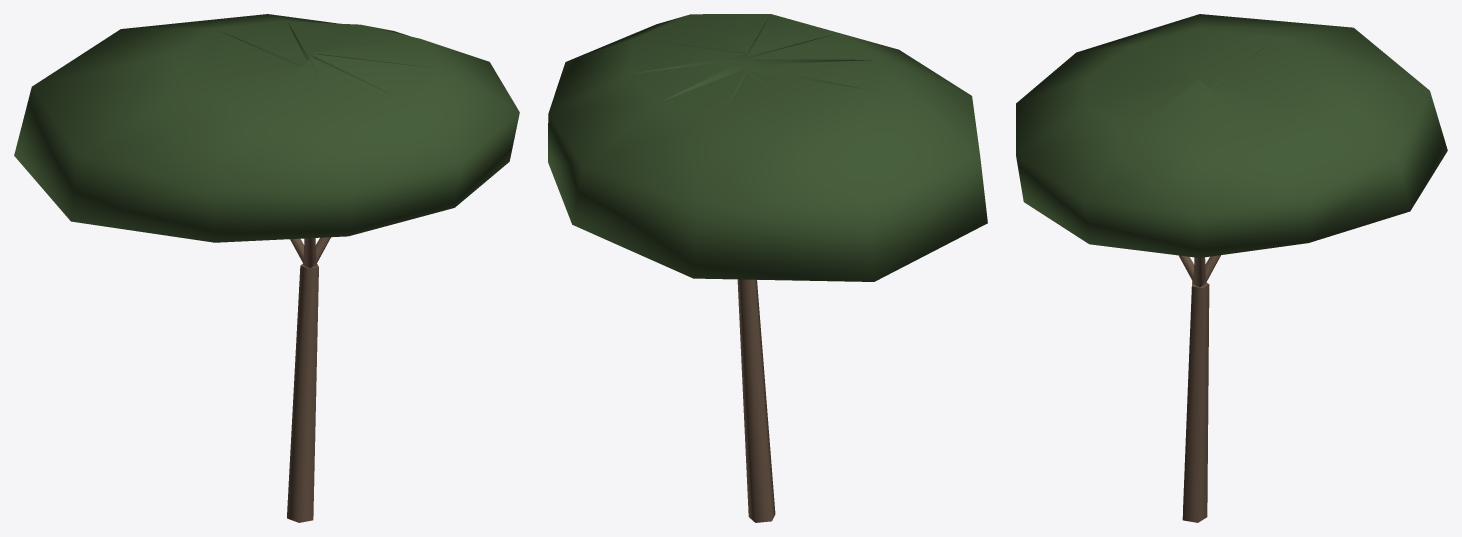
File: umbrella-pine-far.glb
3 renders of one model, left to right at view 1: azimuth 30°, elevation 25°; view 2: azimuth 150°, elevation 25°; view 3: azimuth 270°, elevation 25°, orthographic. The views are drawn at different scales.
Visible parts, largest first — view 1: umbrella-pine-far-pine-needles, umbrella-pine-far-pine-bark; view 2: umbrella-pine-far-pine-needles, umbrella-pine-far-pine-bark; view 3: umbrella-pine-far-pine-needles, umbrella-pine-far-pine-bark.
Part boxes in pixels (left/top/right/bottom): umbrella-pine-far-pine-needles: left=14, top=14, right=519, bottom=242; umbrella-pine-far-pine-bark: left=287, top=237, right=330, bottom=522; umbrella-pine-far-pine-needles: left=548, top=14, right=987, bottom=281; umbrella-pine-far-pine-bark: left=737, top=279, right=775, bottom=522; umbrella-pine-far-pine-needles: left=1016, top=14, right=1447, bottom=257; umbrella-pine-far-pine-bark: left=1178, top=255, right=1220, bottom=522.
Size of the model in its own units: 11.7 by 12.29 by 10.82.
